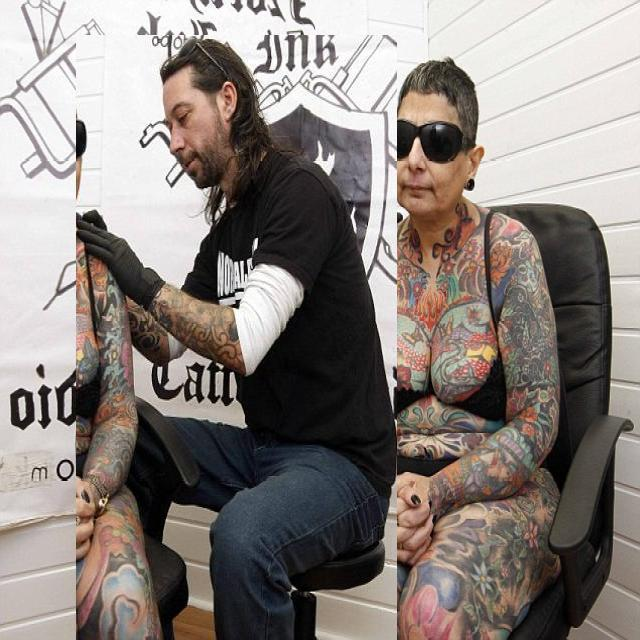direk: (76, 35, 397, 640), (308, 56, 562, 640)
